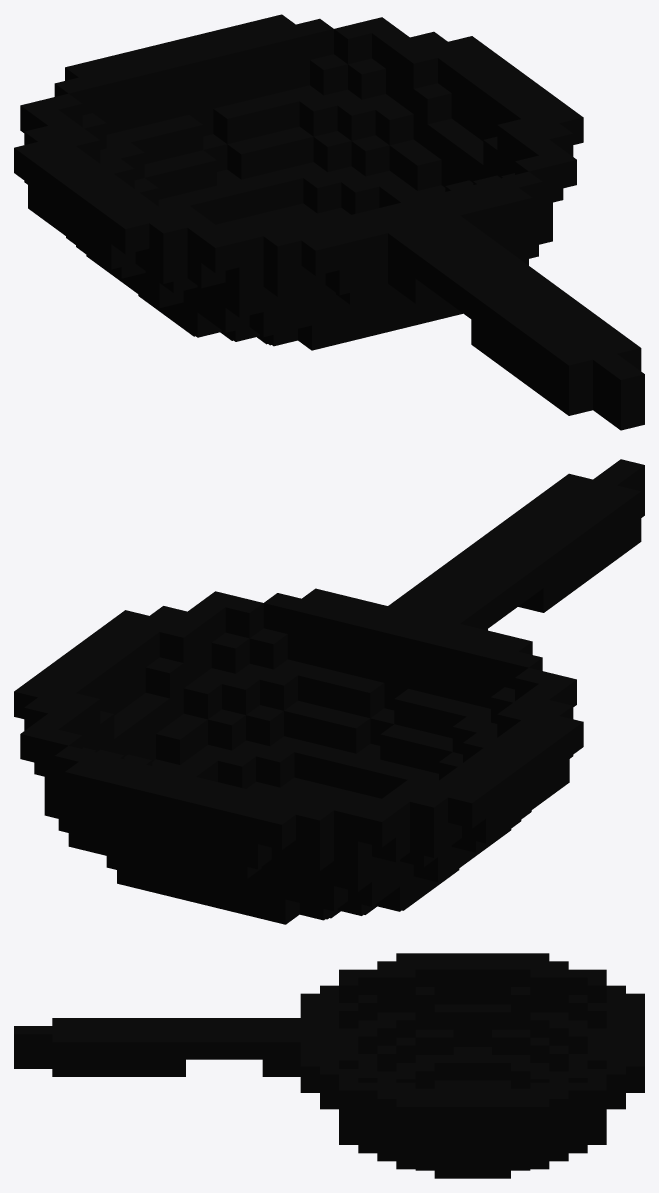
The model's file is pan.obj.
The picture shows the model from 3 angles, top to bottom: view 1: azimuth 30°, elevation 25°; view 2: azimuth 150°, elevation 25°; view 3: azimuth 270°, elevation 25°; orthographic projection. The views are drawn at different scales.
Size of the model in its own units: 1.9 by 0.7 by 3.3.
